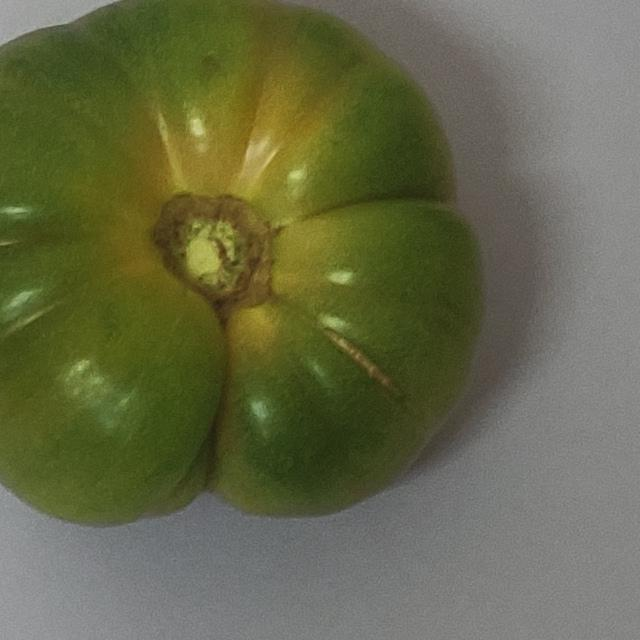tomato: (0, 0, 568, 564)
